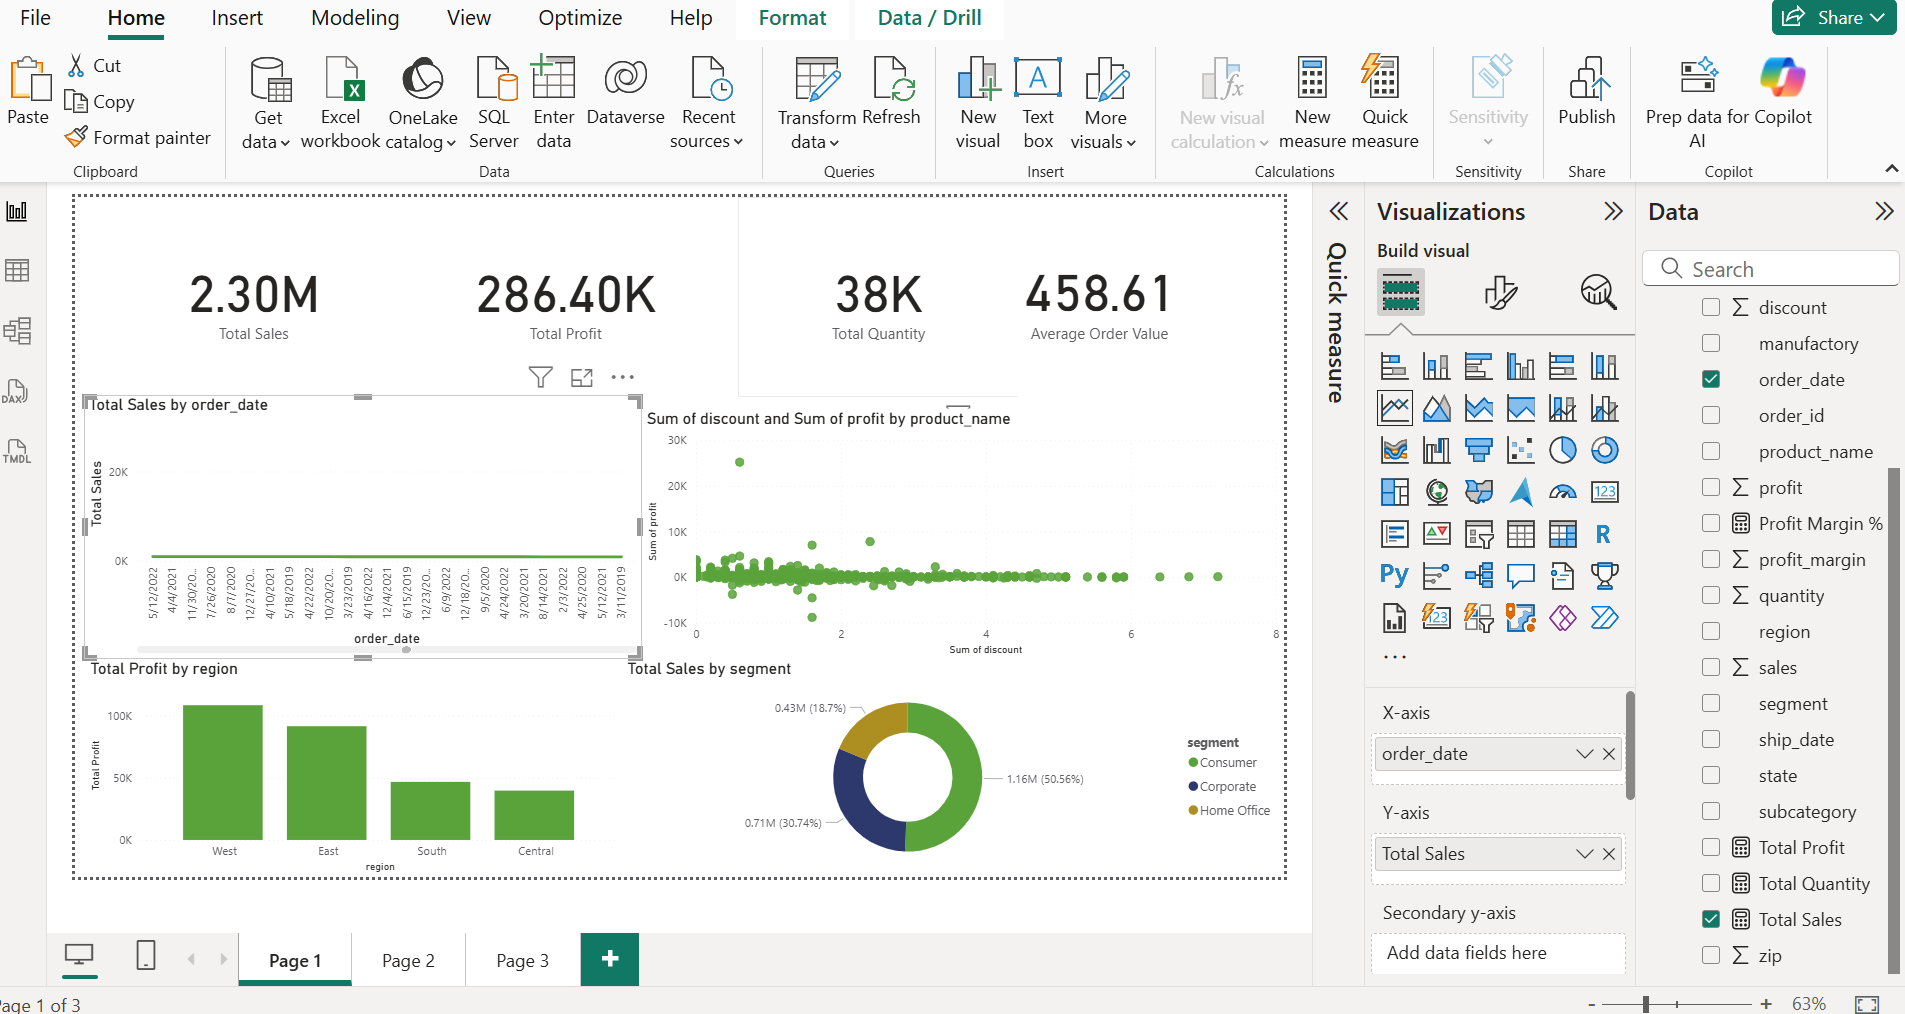

The page's visual inventory and layout, read from the dashboard file:
{"tool":"powerbi","page":{"name":"Page 1","canvas":[1280,720],"ordinal":0},"visuals":[{"type":"card","fields":{"Values":["superstore_dataset.Total Profit"]},"box":[365.1,0,307.9,211.1],"z":0},{"type":"card","fields":{"Values":["superstore_dataset.Total Quantity"]},"box":[701.6,0,296.8,211.1],"z":1000},{"type":"card","fields":{"Values":["superstore_dataset.Total Sales"]},"box":[31.7,0,314.3,211.1],"z":2000},{"type":"card","fields":{"Values":["superstore_dataset.Average Order Value"]},"box":[947.9,0,272.6,210.5],"z":3000},{"type":"lineChart","fields":{"Category":["superstore_dataset.order_date"],"Y":["superstore_dataset.Total Sales"]},"box":[10.1,210.1,589.9,278.3],"z":4000},{"type":"clusteredColumnChart","fields":{"Category":["superstore_dataset.region"],"Y":["superstore_dataset.Total Profit"]},"box":[10.6,489.1,569.3,230.2],"z":5000},{"type":"donutChart","fields":{"Y":["superstore_dataset.Total Sales"],"Category":["superstore_dataset.segment"]},"box":[580,489,700,230],"z":6000},{"type":"scatterChart","fields":{"Y":["Sum(superstore_dataset.profit)"],"X":["Sum(superstore_dataset.discount)"],"Category":["superstore_dataset.product_name"]},"box":[600,223.8,679.4,265.1],"z":7000}]}

Visuals, with their boxes on the page's 1280x720 design canvas (x1, y1, x2, y2). These are canvas units, not pixel positions in the 1905x1014 screenshot, which may show the page scaled, cropped or inside an application window:
card - superstore_dataset.Total Profit: [365, 0, 673, 211]
card - superstore_dataset.Total Quantity: [702, 0, 998, 211]
card - superstore_dataset.Total Sales: [32, 0, 346, 211]
card - superstore_dataset.Average Order Value: [948, 0, 1220, 210]
lineChart - superstore_dataset.order_date x superstore_dataset.Total Sales: [10, 210, 600, 488]
clusteredColumnChart - superstore_dataset.region x superstore_dataset.Total Profit: [11, 489, 580, 719]
donutChart - superstore_dataset.Total Sales x superstore_dataset.segment: [580, 489, 1280, 719]
scatterChart - Sum(superstore_dataset.profit) x Sum(superstore_dataset.discount): [600, 224, 1279, 489]
